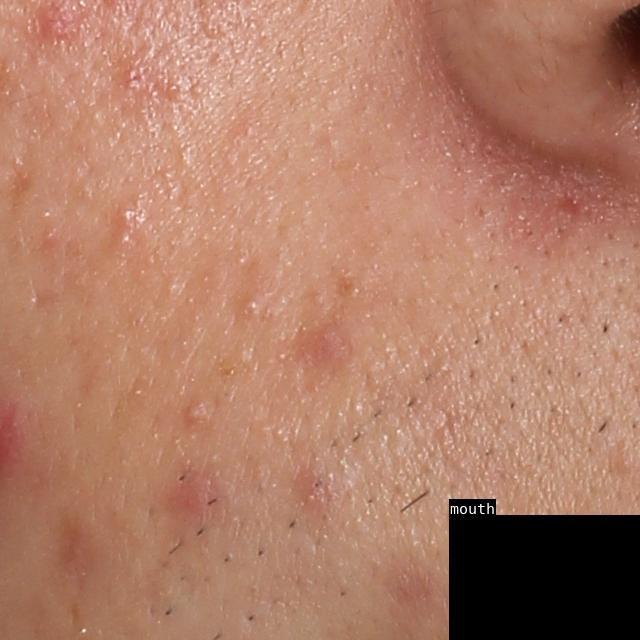papule: (297, 466, 334, 514), (35, 3, 71, 45), (113, 203, 139, 229)
